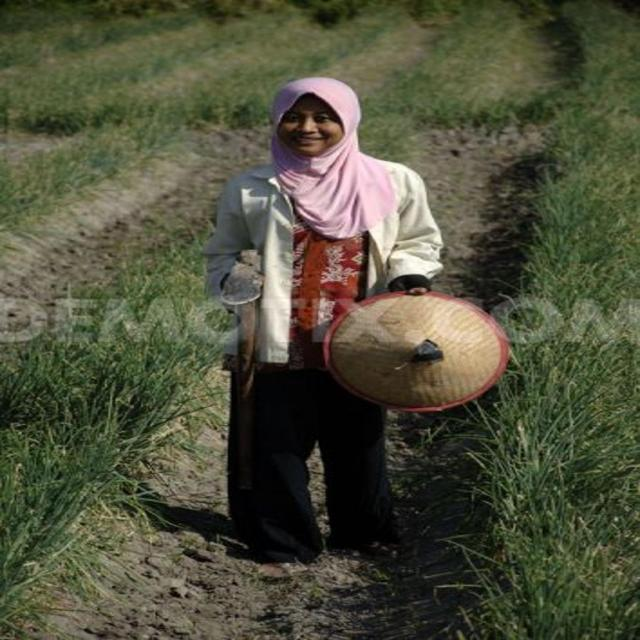nomask: (280, 94, 340, 148)
